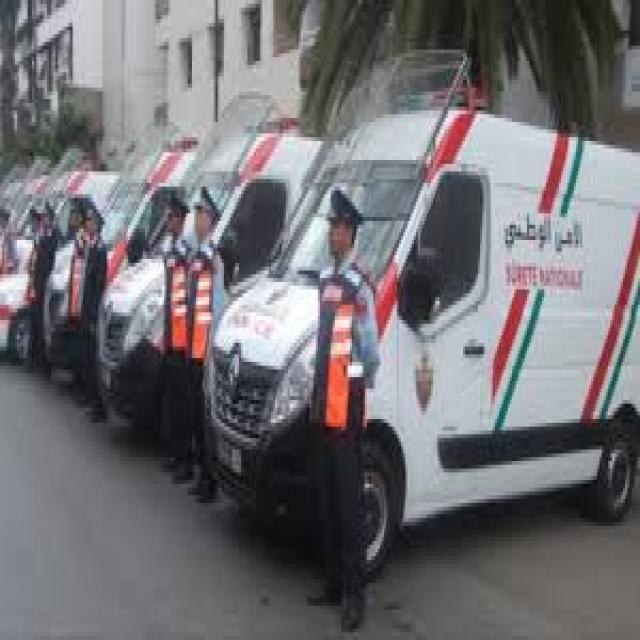police: (209, 61, 640, 568)
